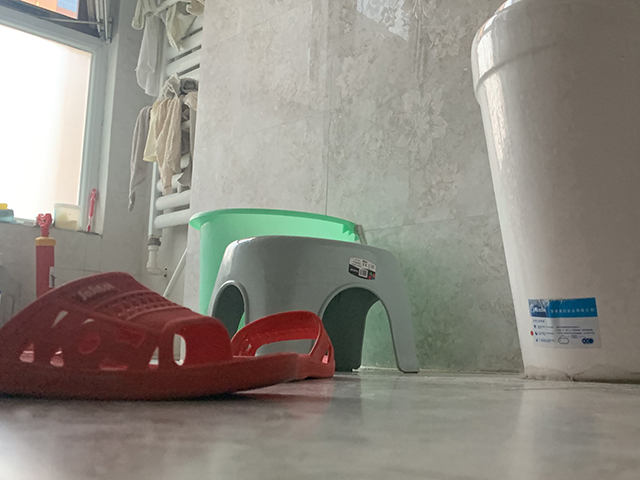closestool: (469, 1, 640, 385)
slippers: (1, 270, 303, 399), (231, 306, 338, 380)
stool: (208, 234, 421, 374)
